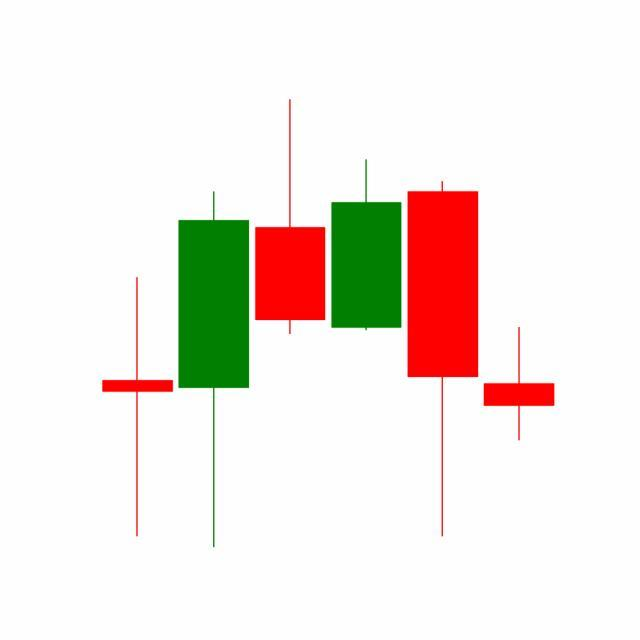Three Outside Up-Down: (326, 156, 555, 542)
